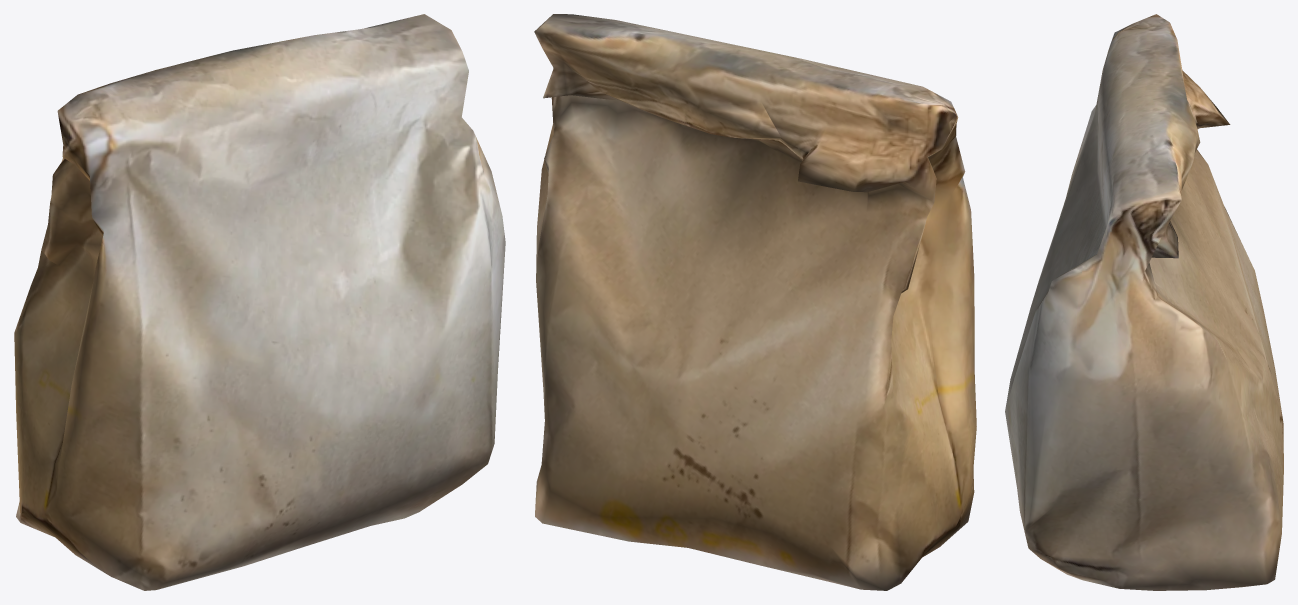
File: Food_Pack_SF.glb
3 views of the same model, side by side, from view 1: azimuth 30°, elevation 25°; view 2: azimuth 150°, elevation 25°; view 3: azimuth 270°, elevation 25° (orthographic). The views are drawn at different scales.
Parts seen in each view (by area): view 1: Food_Packs_FastFood; view 2: Food_Packs_FastFood; view 3: Food_Packs_FastFood.
Part boxes in pixels (bbox=[...]): Food_Packs_FastFood: bbox=[14, 14, 505, 590]; Food_Packs_FastFood: bbox=[534, 14, 976, 590]; Food_Packs_FastFood: bbox=[1005, 14, 1283, 590].
Size of the model in its own units: 0.2233 by 0.2283 by 0.1349.
1 material, 1 textured.
